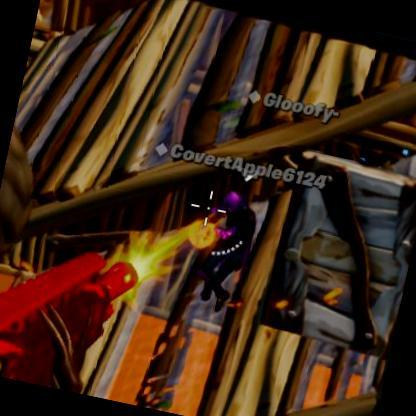person: (198, 194, 258, 306)
